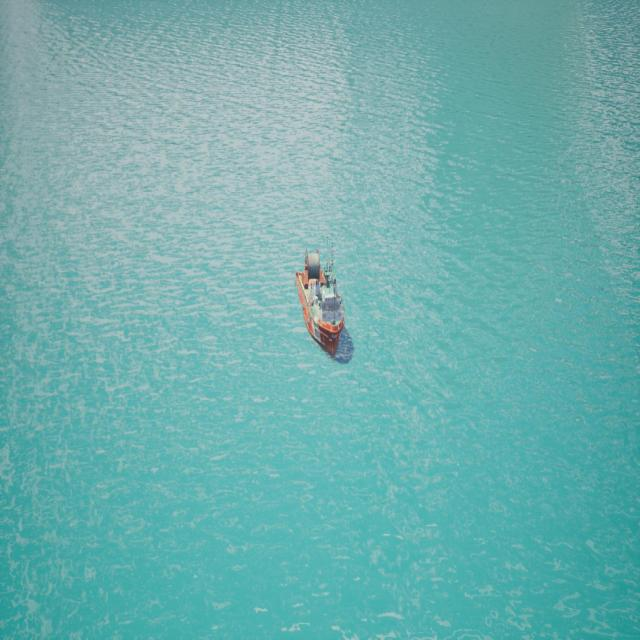tug boat: (297, 251, 349, 363)
